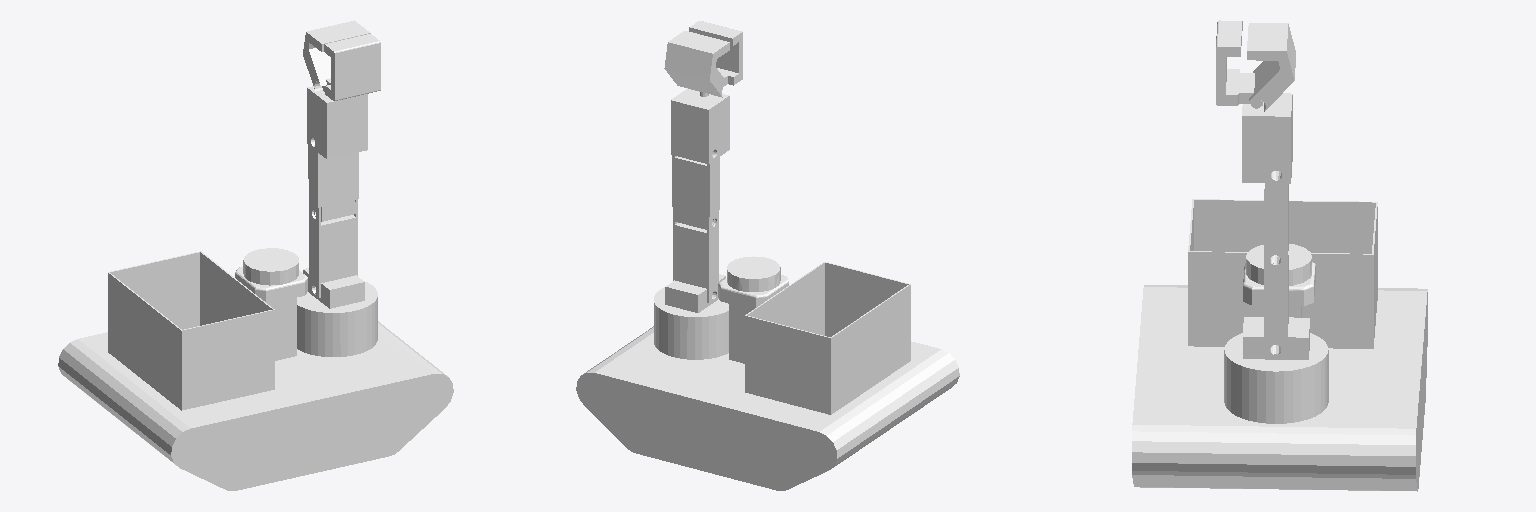
robot.urdf — collectorarmv3:
<?xml version="1.0" encoding="utf-8"?>
<!-- This URDF was automatically created by SolidWorks to URDF Exporter! Originally created by [author] ([email redacted]) 
     Commit Version: 1.6.0-4-g7f85cfe  Build Version: 1.6.7995.38578
     For more information, please see http://wiki.ros.org/sw_urdf_exporter -->
<robot
  name="collectorarmv3">
  <link
    name="base_link">
    <!--
    <inertial>
      <origin
        xyz="-0.000431751513288531 1.47834302831424E-05 -0.0406498757569591"
        rpy="0 0 0" />
      <mass
        value="10.9600819085783" />
      <inertia
        ixx="0.0945695618080456"
        ixy="0.00119518049528138"
        ixz="0.000290680556593048"
        iyy="0.129434724287074"
        iyz="-9.9532969963045E-06"
        izz="0.193324726520427" />
    </inertial>
    -->
    <visual>
      <origin
        xyz="0 0 0"
        rpy="0 0 0" />
      <geometry>
        <mesh
          filename="package://collectorarmv3/meshes/base_link.STL" />
      </geometry>
      <material
        name="">
        <color
          rgba="1 1 1 1" />
      </material>
    </visual>
    <collision>
      <origin
        xyz="0 0 0"
        rpy="0 0 0" />
      <geometry>
        <mesh
          filename="package://collectorarmv3/meshes/base_link.STL" />
      </geometry>
    </collision>
  </link>
  <link
    name="arm_base">
    <inertial>
      <origin
        xyz="7.28396846272968E-19 1.76315571011505E-18 0.0360865793498005"
        rpy="0 0 0" />
      <mass
        value="0.665047517627195" />
      <inertia
        ixx="0.000801321710505508"
        ixy="0"
        ixz="-2.16841730089413E-20"
        iyy="0.0007819945070614"
        iyz="-2.57456921563231E-20"
        izz="0.000931687532031113" />
    </inertial>
    <visual>
      <origin
        xyz="0 0 0"
        rpy="0 0 0" />
      <geometry>
        <mesh
          filename="package://collectorarmv3/meshes/arm_base.STL" />
      </geometry>
      <material
        name="">
        <color
          rgba="1 1 1 1" />
      </material>
    </visual>
    <collision>
      <origin
        xyz="0 0 0"
        rpy="0 0 0" />
      <geometry>
        <mesh
          filename="package://collectorarmv3/meshes/arm_base.STL" />
      </geometry>
    </collision>
  </link>
  <joint
    name="arm_base"
    type="revolute">
    <origin
      xyz="0.110235143232275 -0.00377443959836907 0"
      rpy="0 0.00109387680445442 3.11540863358964" />
    <parent
      link="base_link" />
    <child
      link="arm_base" />
    <axis
      xyz="0 0 1" />
    <limit
      lower="-2.09"
      upper="2.09"
      effort="1.96"
      velocity="2.09" />
  </joint>
  <link
    name="joint1">
    <inertial>
      <origin
        xyz="7.18517713712401E-19 -0.0527192038585681 3.30821804044542E-17"
        rpy="0 0 0" />
      <mass
        value="0.121429178051326" />
      <inertia
        ixx="0.000117162142598077"
        ixy="-6.19418892543942E-21"
        ixz="-5.9292306307801E-21"
        iyy="4.0582127817409E-05"
        iyz="1.0142839467032E-20"
        izz="8.93455922872464E-05" />
    </inertial>
    <visual>
      <origin
        xyz="0 0 0"
        rpy="0 0 0" />
      <geometry>
        <mesh
          filename="package://collectorarmv3/meshes/joint1.STL" />
      </geometry>
      <material
        name="">
        <color
          rgba="1 1 1 1" />
      </material>
    </visual>
    <collision>
      <origin
        xyz="0 0 0"
        rpy="0 0 0" />
      <geometry>
        <mesh
          filename="package://collectorarmv3/meshes/joint1.STL" />
      </geometry>
    </collision>
  </link>
  <joint
    name="joint1"
    type="revolute">
    <origin
      xyz="0 0 0.0735"
      rpy="-1.5708 0 -1.5708" />
    <parent
      link="arm_base" />
    <child
      link="joint1" />
    <axis
      xyz="0 0 -1" />
    <limit
      lower="-1.4"
      upper="1.4"
      effort="1.96"
      velocity="2.09" />
  </joint>
  <link
    name="joint2">
    <inertial>
      <origin
        xyz="-0.000367263012555461 0.04643145539527 -9.64656529610046E-18"
        rpy="0 0 0" />
      <mass
        value="0.131283140376496" />
      <inertia
        ixx="0.000146877503943008"
        ixy="8.00219059863326E-07"
        ixz="-5.29395592033938E-21"
        iyy="4.57156398302099E-05"
        iyz="3.10489047985684E-20"
        izz="0.000115415073146959" />
    </inertial>
    <visual>
      <origin
        xyz="0 0 0"
        rpy="0 0 0" />
      <geometry>
        <mesh
          filename="package://collectorarmv3/meshes/joint2.STL" />
      </geometry>
      <material
        name="">
        <color
          rgba="1 1 1 1" />
      </material>
    </visual>
    <collision>
      <origin
        xyz="0 0 0"
        rpy="0 0 0" />
      <geometry>
        <mesh
          filename="package://collectorarmv3/meshes/joint2.STL" />
      </geometry>
    </collision>
  </link>
  <joint
    name="joint2"
    type="revolute">
    <origin
      xyz="0 -0.1045 0"
      rpy="0 0 -3.1416" />
    <parent
      link="joint1" />
    <child
      link="joint2" />
    <axis
      xyz="0 0 1" />
    <limit
      lower="-2.09"
      upper="2.09"
      effort="1.96"
      velocity="2.09" />
  </joint>
  <link
    name="joint3">
    <inertial>
      <origin
        xyz="0.01039197803158 0.0307503516421674 -5.23805174582059E-18"
        rpy="0 0 0" />
      <mass
        value="0.219866762368024" />
      <inertia
        ixx="0.000172745723837527"
        ixy="2.03545346580773E-06"
        ixz="2.03287907341032E-20"
        iyy="0.000115202012236034"
        iyz="1.88630991746248E-21"
        izz="0.000159888587287607" />
    </inertial>
    <visual>
      <origin
        xyz="0 0 0"
        rpy="0 0 0" />
      <geometry>
        <mesh
          filename="package://collectorarmv3/meshes/joint3.STL" />
      </geometry>
      <material
        name="">
        <color
          rgba="1 1 1 1" />
      </material>
    </visual>
    <collision>
      <origin
        xyz="0 0 0"
        rpy="0 0 0" />
      <geometry>
        <mesh
          filename="package://collectorarmv3/meshes/joint3.STL" />
      </geometry>
    </collision>
  </link>
  <joint
    name="joint3"
    type="revolute">
    <origin
      xyz="-0.000783044610374008 0.0989969031896361 0"
      rpy="0 0 0" />
    <parent
      link="joint2" />
    <child
      link="joint3" />
    <axis
      xyz="0 0 1" />
    <limit
      lower="-2.09"
      upper="2.09"
      effort="1.96"
      velocity="2.09" />
  </joint>
  <link
    name="joint4">
    <inertial>
      <origin
        xyz="-0.000277596496871631 -0.0281145016215643 -0.037041068420988"
        rpy="0 0 0" />
      <mass
        value="0.0877692802125948" />
      <inertia
        ixx="6.5935291174991E-05"
        ixy="5.20638114340617E-07"
        ixz="5.88851187244421E-07"
        iyy="8.01839237432345E-05"
        iyz="-1.16396143968237E-05"
        izz="4.38010425722549E-05" />
    </inertial>
    <visual>
      <origin
        xyz="0 0 0"
        rpy="0 0 0" />
      <geometry>
        <mesh
          filename="package://collectorarmv3/meshes/joint4.STL" />
      </geometry>
      <material
        name="">
        <color
          rgba="1 1 1 1" />
      </material>
    </visual>
    <collision>
      <origin
        xyz="0 0 0"
        rpy="0 0 0" />
      <geometry>
        <mesh
          filename="package://collectorarmv3/meshes/joint4.STL" />
      </geometry>
    </collision>
  </link>
  <joint
    name="joint4"
    type="revolute">
    <origin
      xyz="0.0210000000000001 0.0739722155183903 0"
      rpy="-1.57079632679501 -1.56966466905772 -3.14159265358968" />
    <parent
      link="joint3" />
    <child
      link="joint4" />
    <axis
      xyz="0 0 -1" />
    <limit
      lower="-2.09"
      upper="2.09"
      effort="1.96"
      velocity="2.09" />
  </joint>
  <link
    name="joint5">
    <inertial>
      <origin
        xyz="0.0107453852867667 -0.0401379763855603 -4.33680868994202E-18"
        rpy="0 0 0" />
      <mass
        value="0.106491203259952" />
      <inertia
        ixx="7.00067496887713E-05"
        ixy="1.26099042598824E-05"
        ixz="5.0821976835258E-21"
        iyy="6.88640890322061E-05"
        iyz="-9.42324153820409E-21"
        izz="5.43700689342052E-05" />
    </inertial>
    <visual>
      <origin
        xyz="0 0 0"
        rpy="0 0 0" />
      <geometry>
        <mesh
          filename="package://collectorarmv3/meshes/joint5.STL" />
      </geometry>
      <material
        name="">
        <color
          rgba="1 1 1 1" />
      </material>
    </visual>
    <collision>
      <origin
        xyz="0 0 0"
        rpy="0 0 0" />
      <geometry>
        <mesh
          filename="package://collectorarmv3/meshes/joint5.STL" />
      </geometry>
    </collision>
  </link>
  <joint
    name="joint5"
    type="revolute">
    <origin
      xyz="-0.00150000000000001 0 -0.00858728860074032"
      rpy="1.5707963267949 0.717783208856171 -1.5707963267949" />
    <parent
      link="joint4" />
    <child
      link="joint5" />
    <axis
      xyz="0 0 -1" />
    <limit
      lower="-0.1"
      upper="2.09"
      effort="1.96"
      velocity="2.09" />
  </joint>
</robot>

--- Render facts (derived) ---
3 views of the same robot in one strip: view 1: azimuth 30°, elevation 25°; view 2: azimuth 150°, elevation 25°; view 3: azimuth 270°, elevation 25° (orthographic).
Robot: collectorarmv3 — 7 links, 6 joints (6 revolute); root link base_link; default pose: all joints at 0.
Links seen in each view (by area): view 1: base_link, arm_base, joint3, joint1, joint2, joint4, joint5; view 2: base_link, arm_base, joint3, joint2, joint5, joint1, joint4; view 3: base_link, arm_base, joint3, joint5, joint1, joint4, joint2.
Boxes of the visible links, box(x1,y1,x2,y2) form: base_link: box(58, 248, 453, 490); arm_base: box(297, 268, 377, 356); joint3: box(307, 86, 367, 159); joint1: box(309, 195, 357, 297); joint2: box(308, 124, 358, 221); joint4: box(322, 34, 380, 100); joint5: box(303, 20, 370, 91); base_link: box(576, 256, 959, 490); arm_base: box(654, 274, 728, 359); joint3: box(671, 88, 729, 163); joint2: box(672, 139, 719, 229); joint5: box(664, 31, 729, 97); joint1: box(673, 207, 718, 302); joint4: box(689, 21, 742, 96); base_link: box(1132, 199, 1427, 491); arm_base: box(1224, 317, 1328, 423); joint3: box(1242, 93, 1292, 183); joint5: box(1247, 23, 1295, 111); joint1: box(1264, 249, 1288, 354); joint4: box(1216, 20, 1262, 108); joint2: box(1264, 155, 1288, 263).
Size in the robot's own frame: 0.4096 by 0.3135 by 0.5281 metres.
Meshes: 7 distinct files referenced, 7 mesh visuals loaded (7 binary STL).